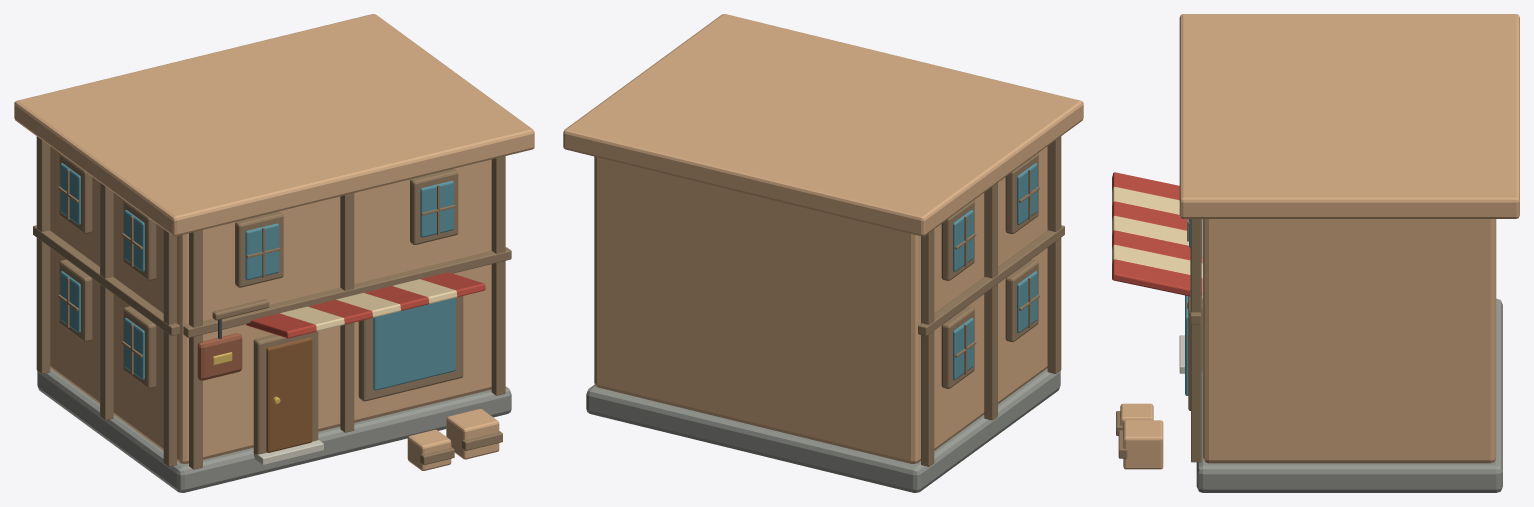
File: arid-shop-0.glb
3 views of the same model, side by side, from view 1: azimuth 30°, elevation 25°; view 2: azimuth 150°, elevation 25°; view 3: azimuth 270°, elevation 25° (orthographic). The views are drawn at different scales.
Visible parts, largest first — view 1: Adobe cream, Adobe plaster, Palm beams, Blue glass, Foundation stone, Door oak, Market red cloth, Adobe wood, Market cream cloth, Painted sign, Cut limestone; view 2: Adobe plaster, Adobe cream, Palm beams, Foundation stone, Blue glass; view 3: Adobe plaster, Adobe cream, Foundation stone, Market red cloth, Palm beams, Market cream cloth, Adobe wood, Blue glass.
Part boxes in pixels (box(x1,y1,x2,y2)): Adobe cream: box(14, 14, 534, 236); Adobe plaster: box(50, 146, 491, 463); Palm beams: box(33, 136, 511, 469); Blue glass: box(60, 163, 455, 390); Foundation stone: box(37, 368, 511, 492); Door oak: box(266, 337, 312, 452); Market red cloth: box(246, 272, 485, 338); Adobe wood: box(407, 409, 499, 470); Market cream cloth: box(280, 279, 457, 331); Painted sign: box(197, 333, 242, 380); Cut limestone: box(252, 440, 323, 465); Adobe plaster: box(594, 146, 1047, 463); Adobe cream: box(563, 14, 1083, 236); Palm beams: box(918, 136, 1064, 466); Foundation stone: box(586, 368, 1060, 492); Blue glass: box(953, 163, 1037, 379); Adobe plaster: box(1203, 219, 1496, 463); Adobe cream: box(1179, 14, 1519, 218); Foundation stone: box(1196, 298, 1502, 492); Market red cloth: box(1112, 172, 1202, 296); Palm beams: box(1116, 219, 1202, 462); Market cream cloth: box(1112, 187, 1202, 278); Adobe wood: box(1120, 403, 1163, 469); Blue glass: box(1185, 219, 1190, 395).
Size of the model in its own units: 4.14 by 3.14 by 3.82.
